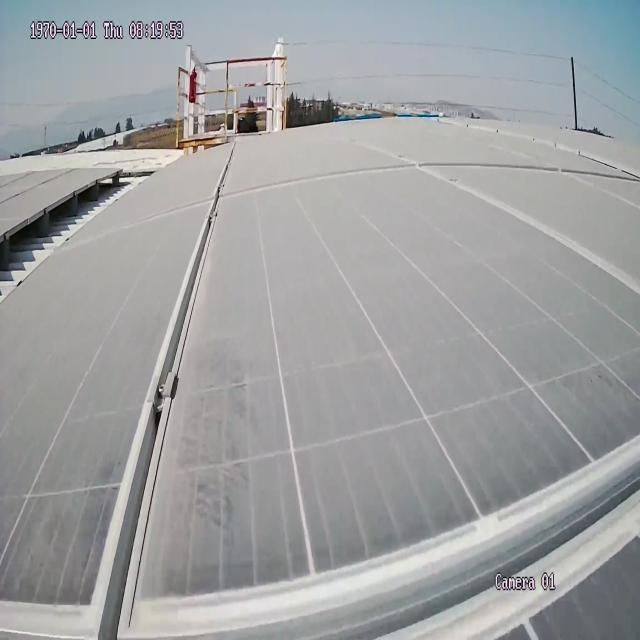interior panel: (96, 139, 640, 640), (224, 162, 421, 201), (420, 161, 640, 180)
outher panel: (0, 165, 164, 312)
